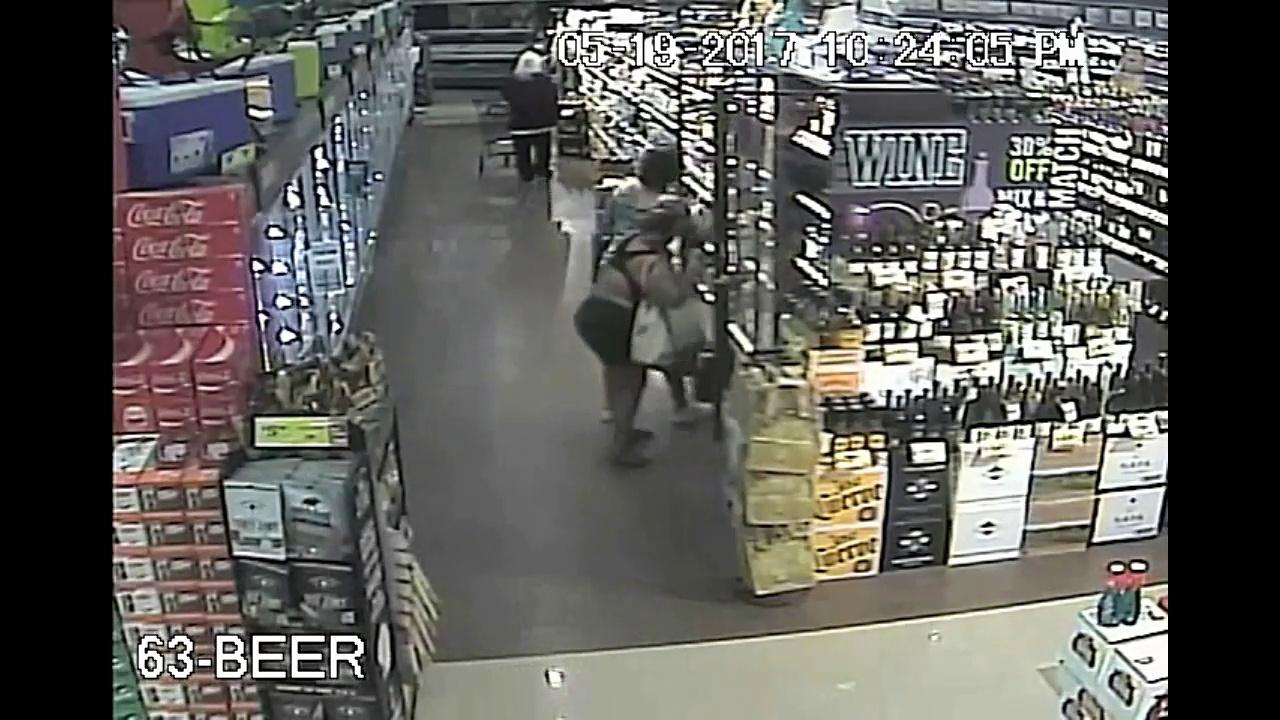3: (563, 199, 745, 453), (487, 40, 581, 188), (596, 136, 704, 213)
persone: (616, 301, 714, 372)
